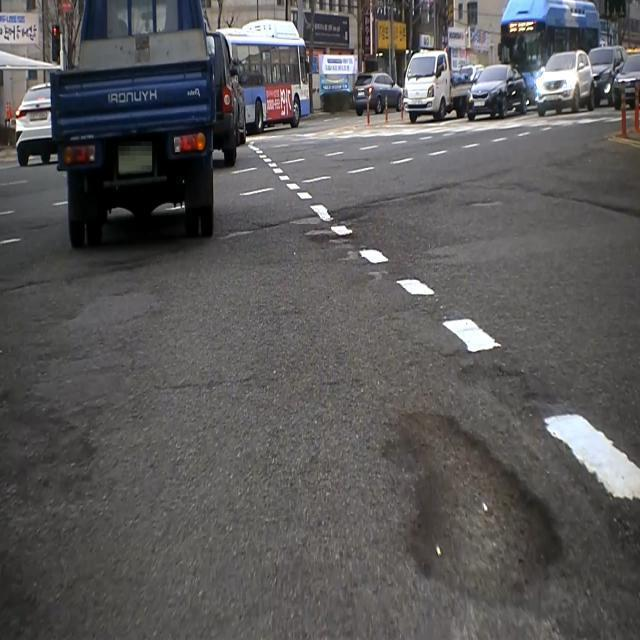pothole: (376, 401, 571, 624), (6, 392, 109, 518), (218, 216, 286, 248), (308, 225, 350, 259), (462, 193, 503, 216)
